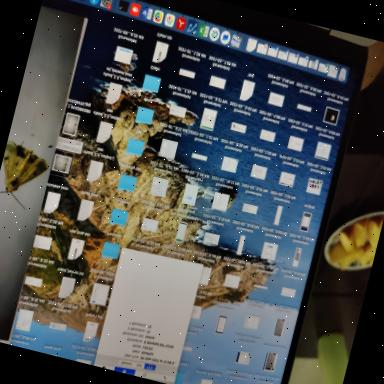abw: (0, 137, 53, 214)
